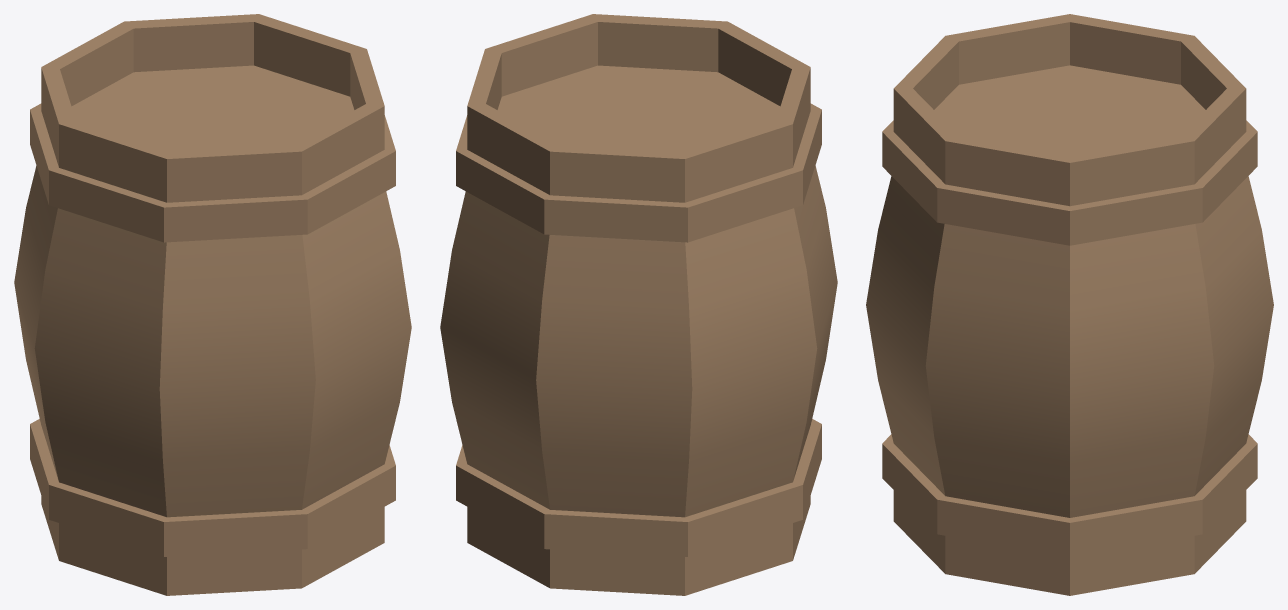
Rendered from Barrel.fbx.
3 views of the same model, side by side, from view 1: azimuth 30°, elevation 25°; view 2: azimuth 150°, elevation 25°; view 3: azimuth 270°, elevation 25° (orthographic).
Parts seen in each view (by area): view 1: Barrel; view 2: Barrel; view 3: Barrel.
Boxes of the visible parts, x1=… form: Barrel: x1=14, y1=14, x2=411, y2=595; Barrel: x1=440, y1=14, x2=837, y2=595; Barrel: x1=866, y1=14, x2=1273, y2=595.
Size of the model in its own units: 14.72 by 17.24 by 14.72.
